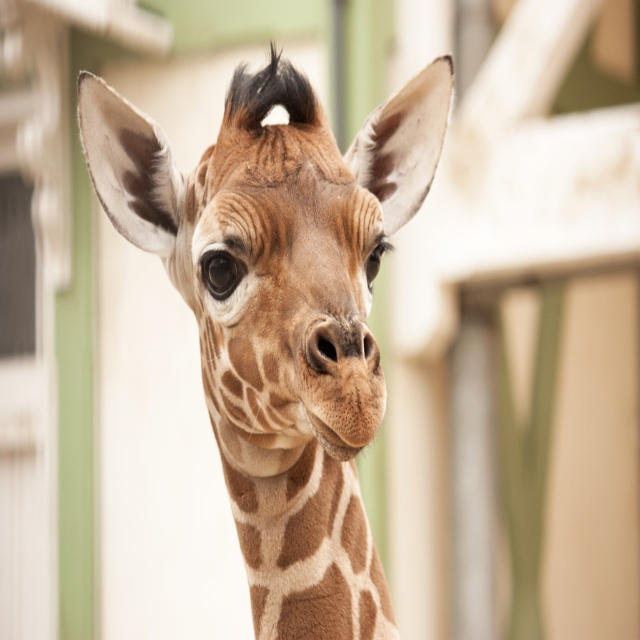Giraffe: (93, 35, 444, 640)
